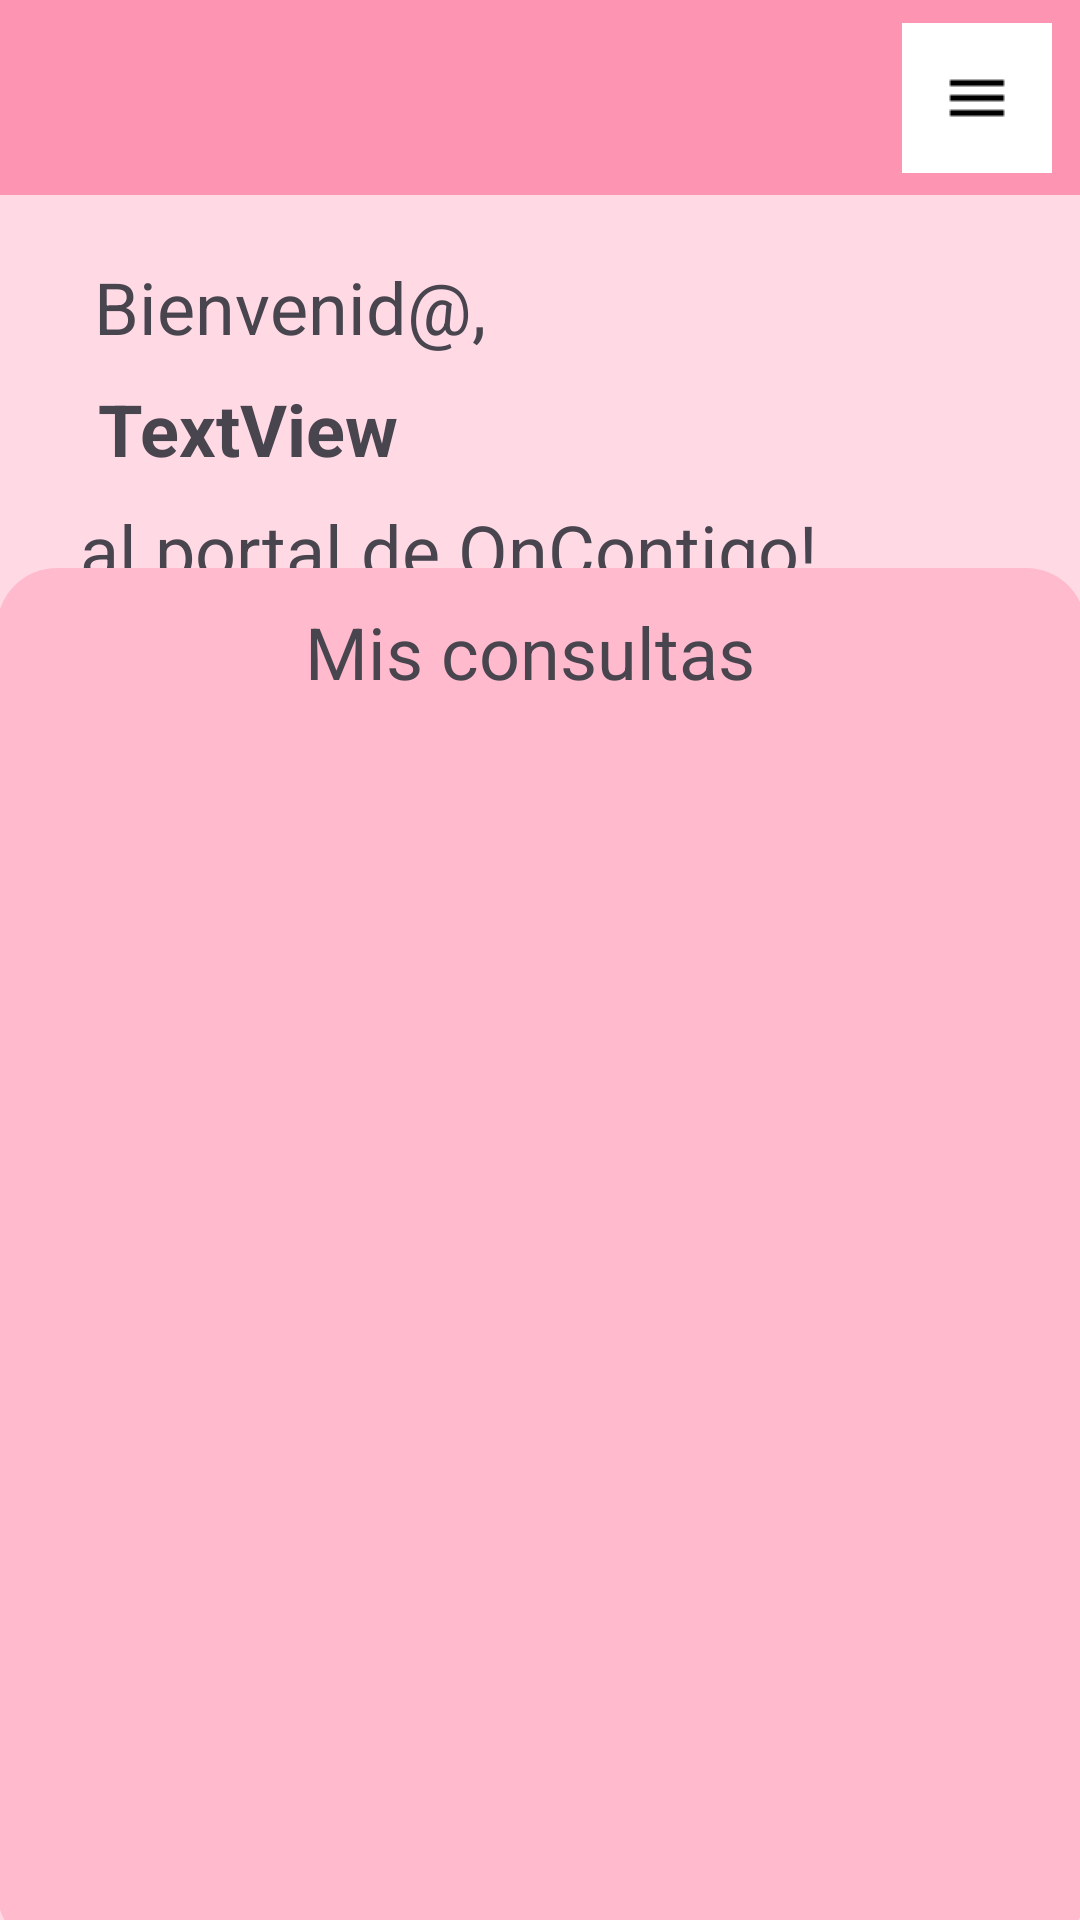

Named icons in this screenshot (1080px x 1920px) and their bounding boxes, (x1, y1, x2, y2):
menu: (902, 23, 1052, 173)
